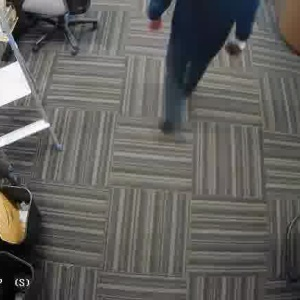person: (162, 0, 252, 132)
